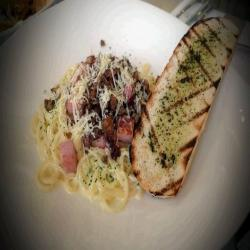bread: (130, 13, 238, 201)
carbonara: (32, 53, 157, 211)
